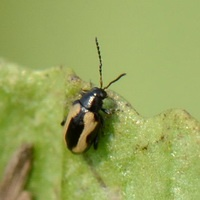insect: (62, 38, 125, 152)
